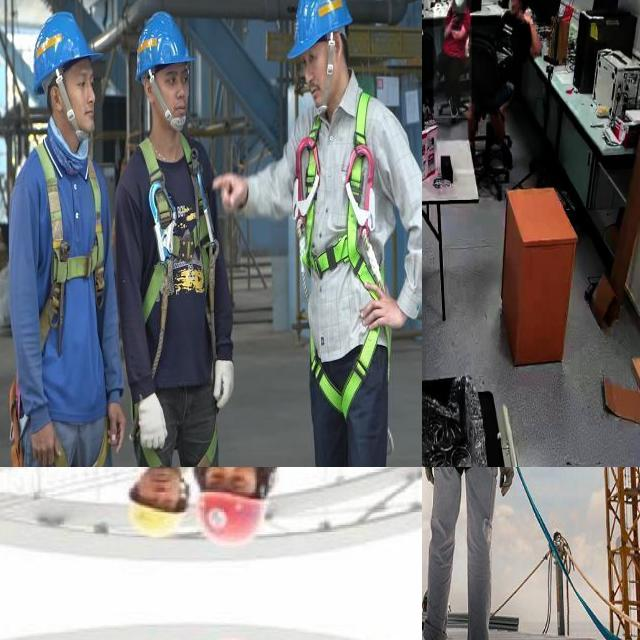Harness: (9, 131, 112, 467), (124, 131, 222, 467), (298, 90, 392, 426)
No_Ear-Protection: (49, 84, 66, 111), (142, 77, 158, 105)
No_Glasses: (160, 66, 193, 92), (296, 50, 327, 74), (70, 69, 100, 93)
face_mask: (451, 0, 466, 13)
face_nomask: (144, 474, 178, 510), (209, 467, 253, 490)
hand_noglove: (519, 10, 533, 25), (450, 11, 460, 24)
head_helmet: (196, 488, 268, 548), (128, 492, 184, 537)
person: (486, 0, 539, 173), (433, 0, 472, 119)
